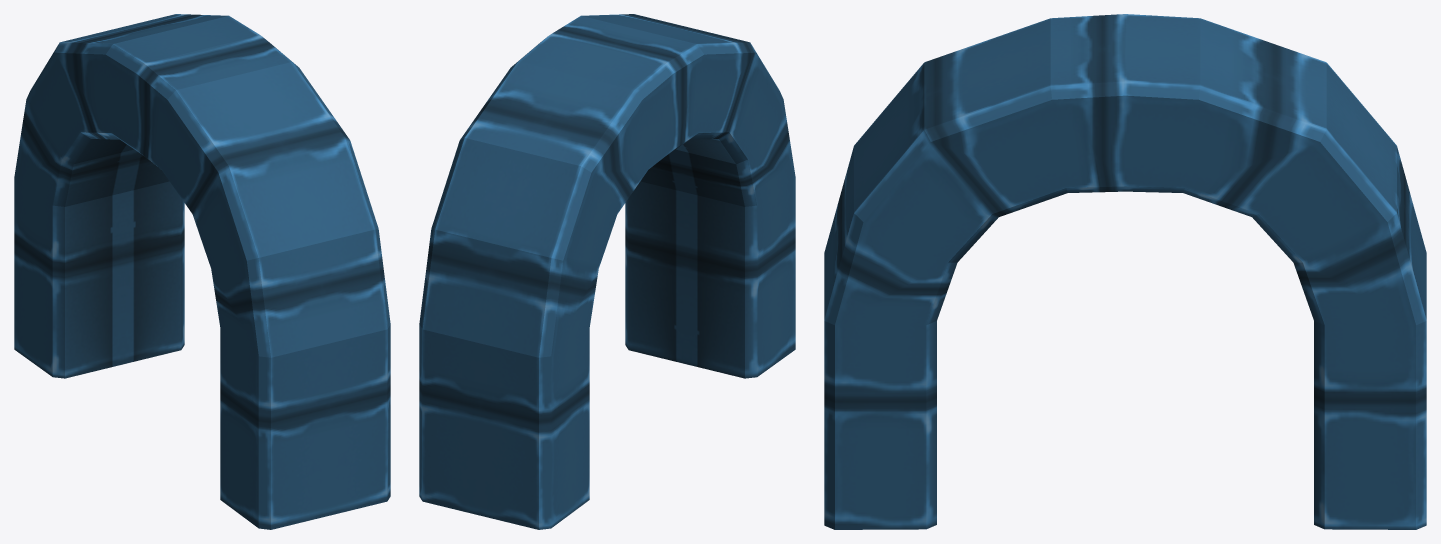
Rendered from toon01_weilan03.FBX.
3 views of the same model, side by side, from view 1: azimuth 30°, elevation 25°; view 2: azimuth 150°, elevation 25°; view 3: azimuth 270°, elevation 25° (orthographic). The views are drawn at different scales.
Parts seen in each view (by area): view 1: toon01_weilan03; view 2: toon01_weilan03; view 3: toon01_weilan03.
Part boxes in pixels (x1,y1,x2,y2): toon01_weilan03: (14,14,390,529); toon01_weilan03: (419,14,795,529); toon01_weilan03: (824,14,1426,529).
Size of the model in its own units: 2597 by 7031 by 8647.
